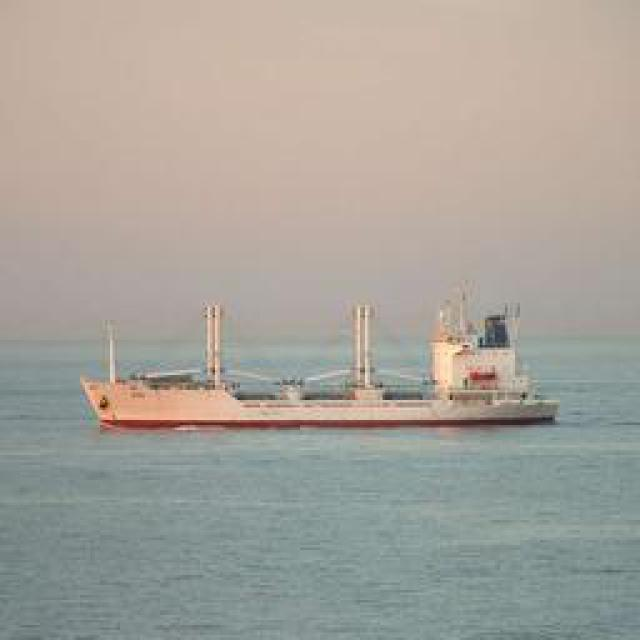Ship: (86, 307, 556, 435)
